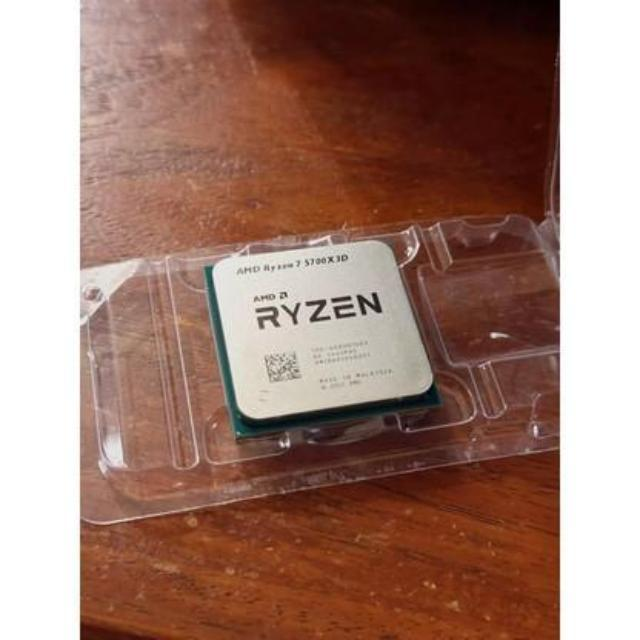CPU: (213, 242, 438, 444)
